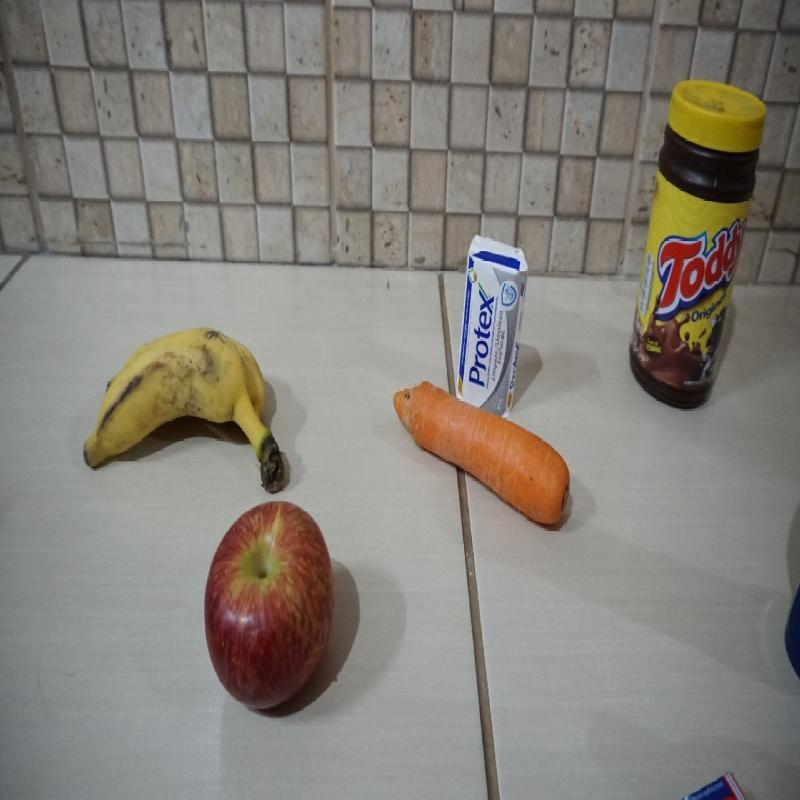Apple: (204, 501, 335, 710)
Banana: (80, 320, 290, 493)
Carrot: (384, 383, 573, 528)
Chocolate Powder: (634, 78, 766, 408)
Soap: (459, 234, 528, 380)
